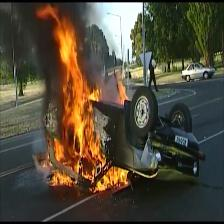fire: (40, 1, 145, 200)
smoke: (0, 3, 62, 103)
